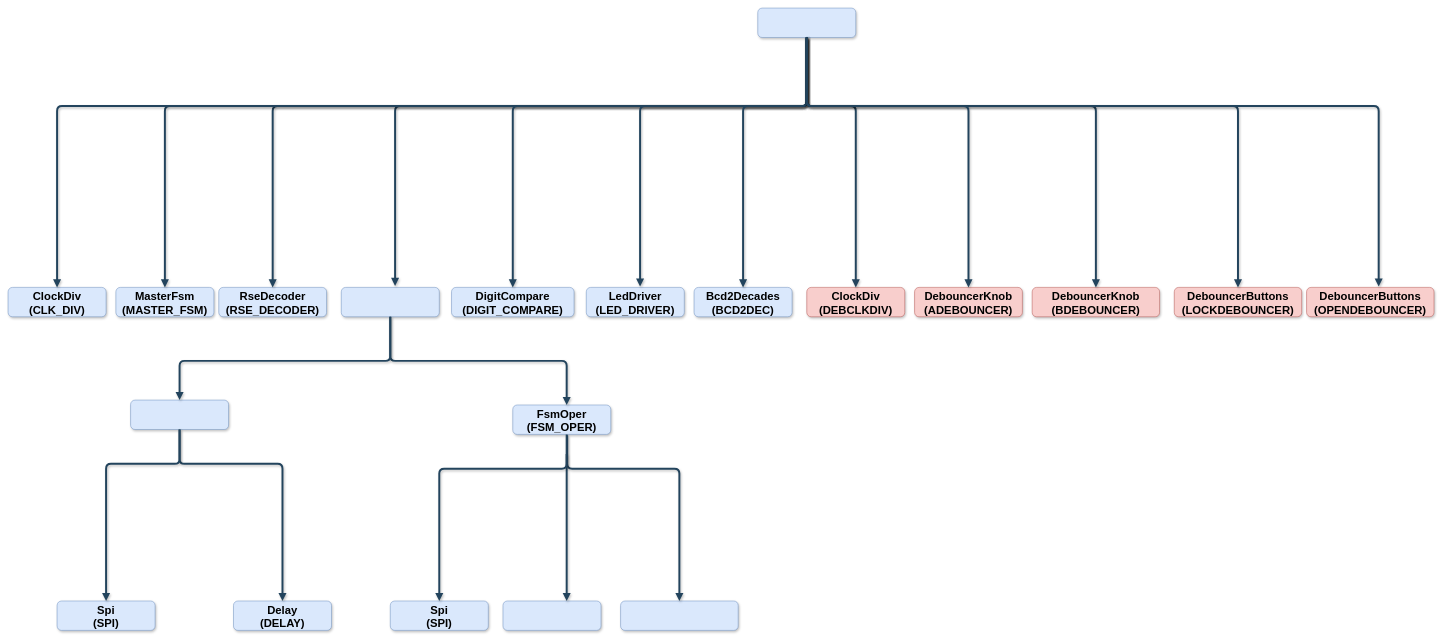
Image size: 1442x638. Some labels were removed from this diagram. Here are the shapes that lost their labels. From the top down, the centre of each, then its label:
the point at 807,23: SafeTop
the point at 390,302: OledDriver (OLED_DRIVER)
the point at 180,415: FsmInit (FSM_INIT)
the point at 552,616: UpdatePage (PAGE_ROW)
the point at 679,616: Rom (CHAR_LIB_COM)
